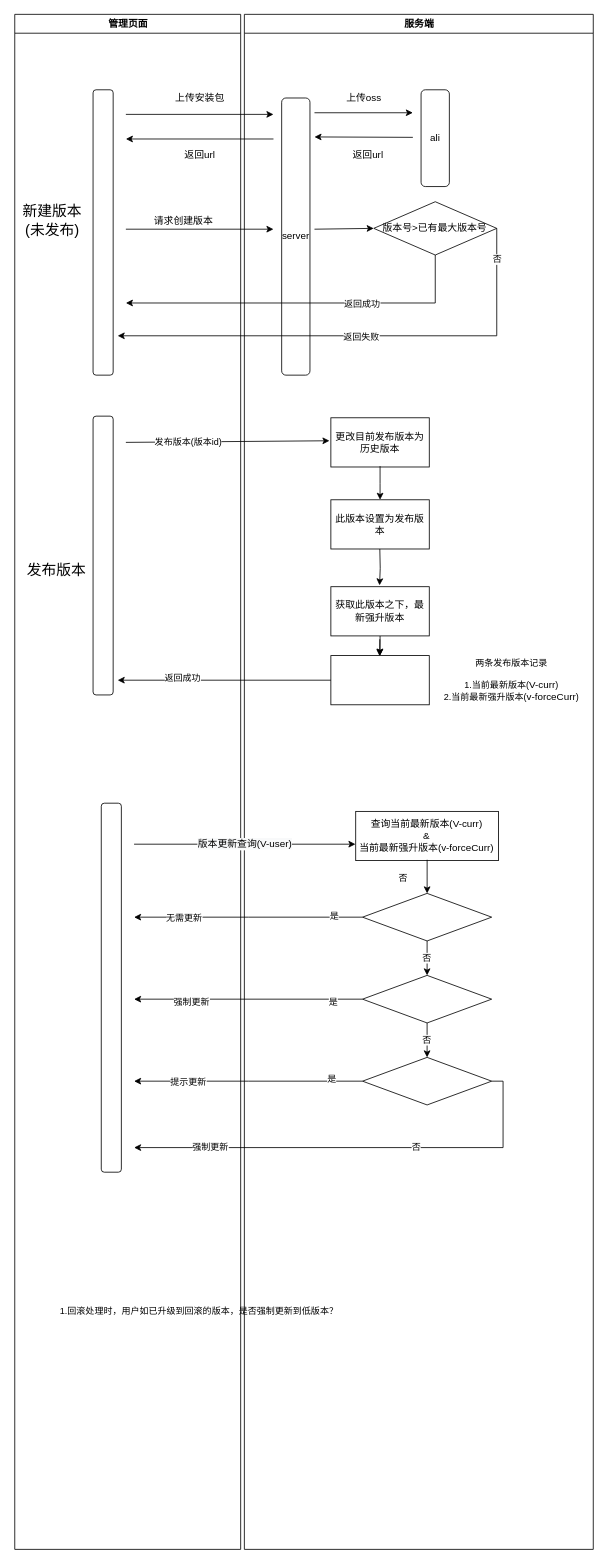
The diagram is 608 pixels wide and 1564 high, and some of its shapes have lost their labels. The shapes that lost their labels are listed below. From the top down, each one's centre as x and y in pixels, then its label:
At point 379,680: "更改redis".
At point 427,917: "V-user==V-curr？".
At point 427,999: "V-curr是否为强升".
At point 427,1081: "V-user >= v-forceCurr".
